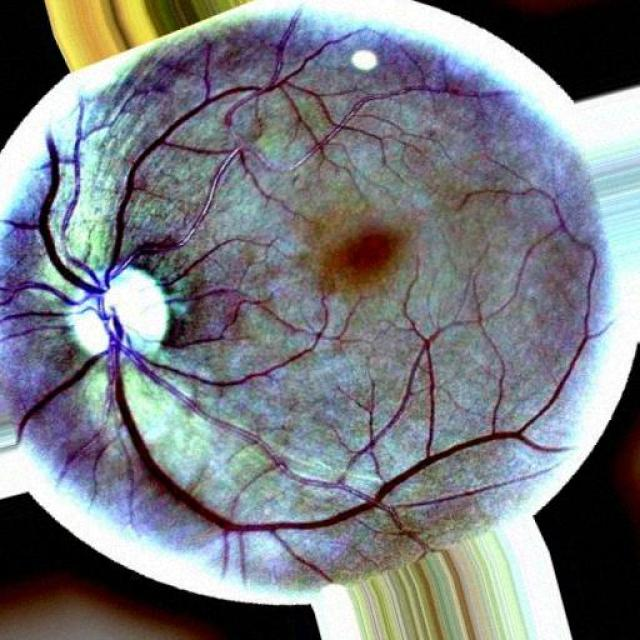Macula: (307, 208, 414, 295)
Nerves: (32, 71, 554, 570)
Optic Disk: (46, 232, 232, 409)
